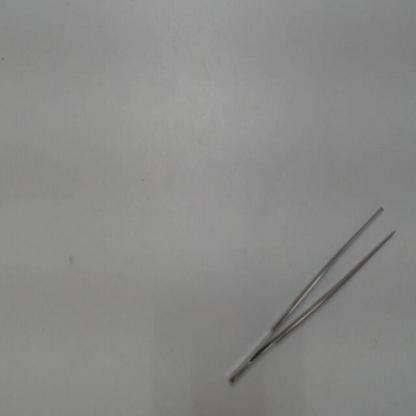Gillies Toothed Dissector: (220, 193, 403, 398)
